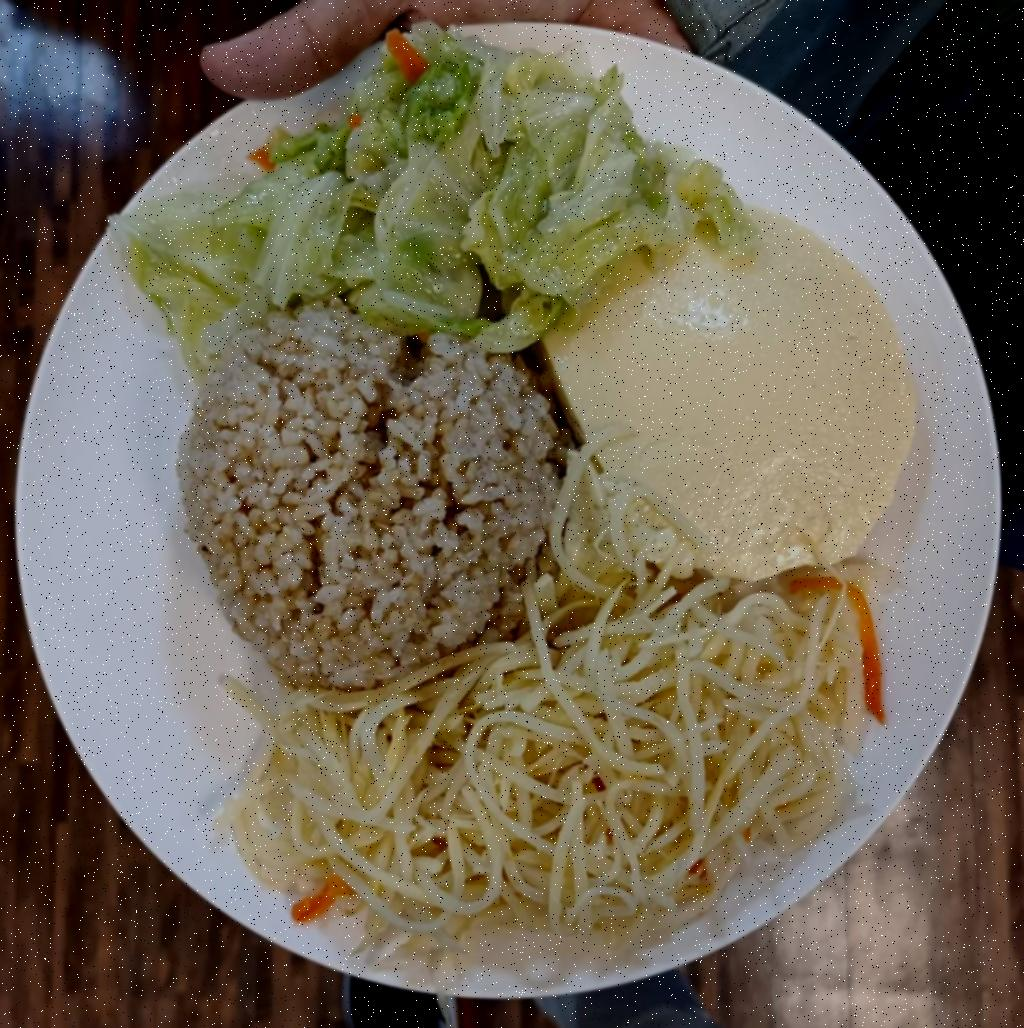brown rice: (170, 300, 572, 684)
plate: (18, 20, 1018, 1002)
side dish: (244, 576, 878, 961), (142, 38, 738, 318), (512, 178, 928, 570)
